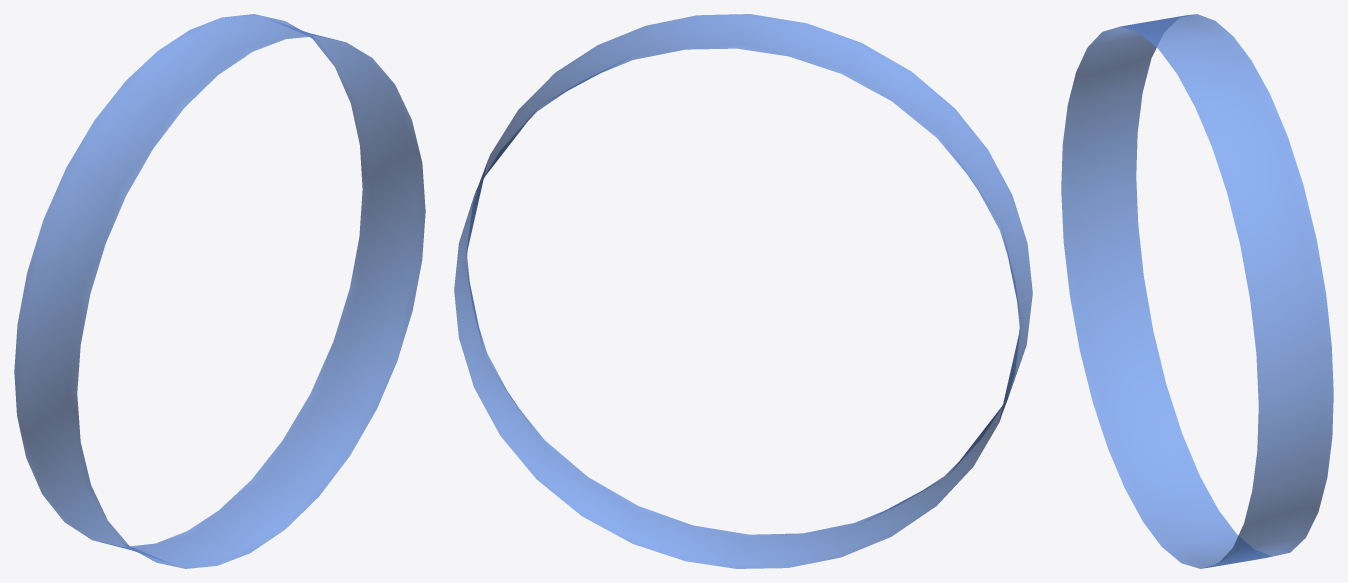
File: original-41.obj
3 renders of one model, left to right at view 1: azimuth 30°, elevation 25°; view 2: azimuth 150°, elevation 25°; view 3: azimuth 270°, elevation 25°, orthographic. The views are drawn at different scales.
Parts seen in each view (by area): view 1: mesh38/mesh38-geometry#mesh38-geometry; view 2: mesh38/mesh38-geometry#mesh38-geometry; view 3: mesh38/mesh38-geometry#mesh38-geometry.
Part boxes in pixels (x1,y1,x2,y2): mesh38/mesh38-geometry#mesh38-geometry: [14, 14, 425, 568]; mesh38/mesh38-geometry#mesh38-geometry: [454, 14, 1032, 568]; mesh38/mesh38-geometry#mesh38-geometry: [1061, 14, 1333, 568].
Size of the model in its own units: 0.1116 by 0.1134 by 0.0562.
